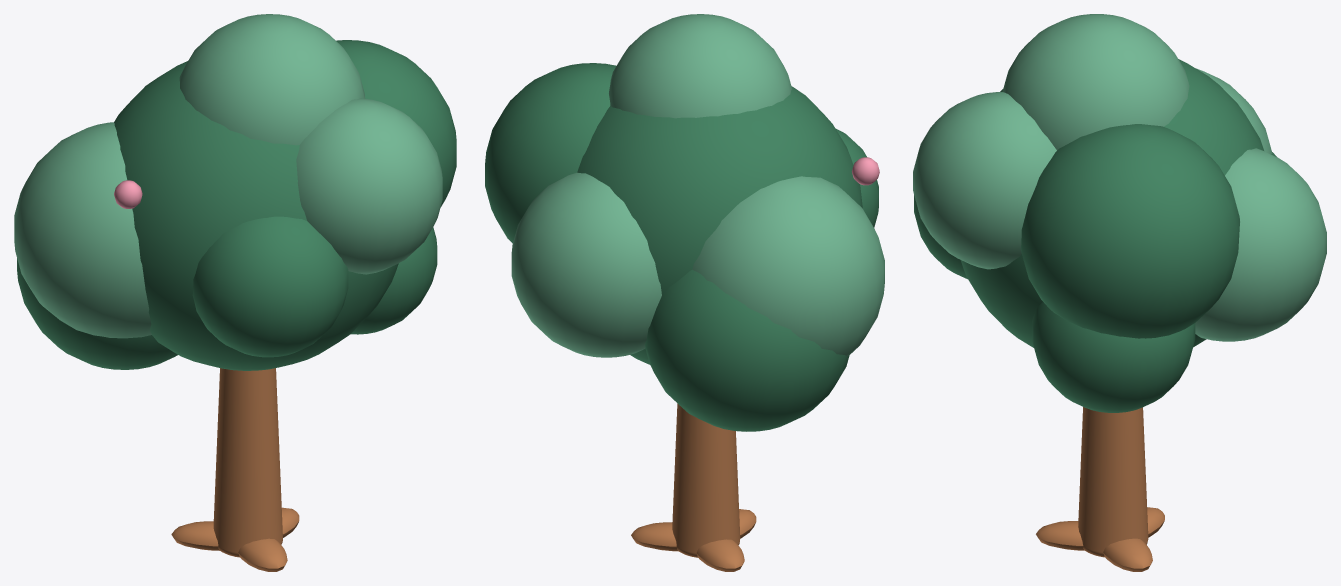
The model's file is tree_small.glb.
3 views of the same model, side by side, from view 1: azimuth 30°, elevation 25°; view 2: azimuth 150°, elevation 25°; view 3: azimuth 270°, elevation 25° (orthographic). The views are drawn at different scales.
Visible parts, largest first — view 1: tree_small; view 2: tree_small; view 3: tree_small.
Part boxes in pixels (bbox=[...]): tree_small: bbox=[14, 14, 456, 571]; tree_small: bbox=[485, 14, 884, 571]; tree_small: bbox=[913, 14, 1326, 571].
Bounding box in the file's own units: 2.84 × 3.6 × 2.55.
1 material, 1 textured.
